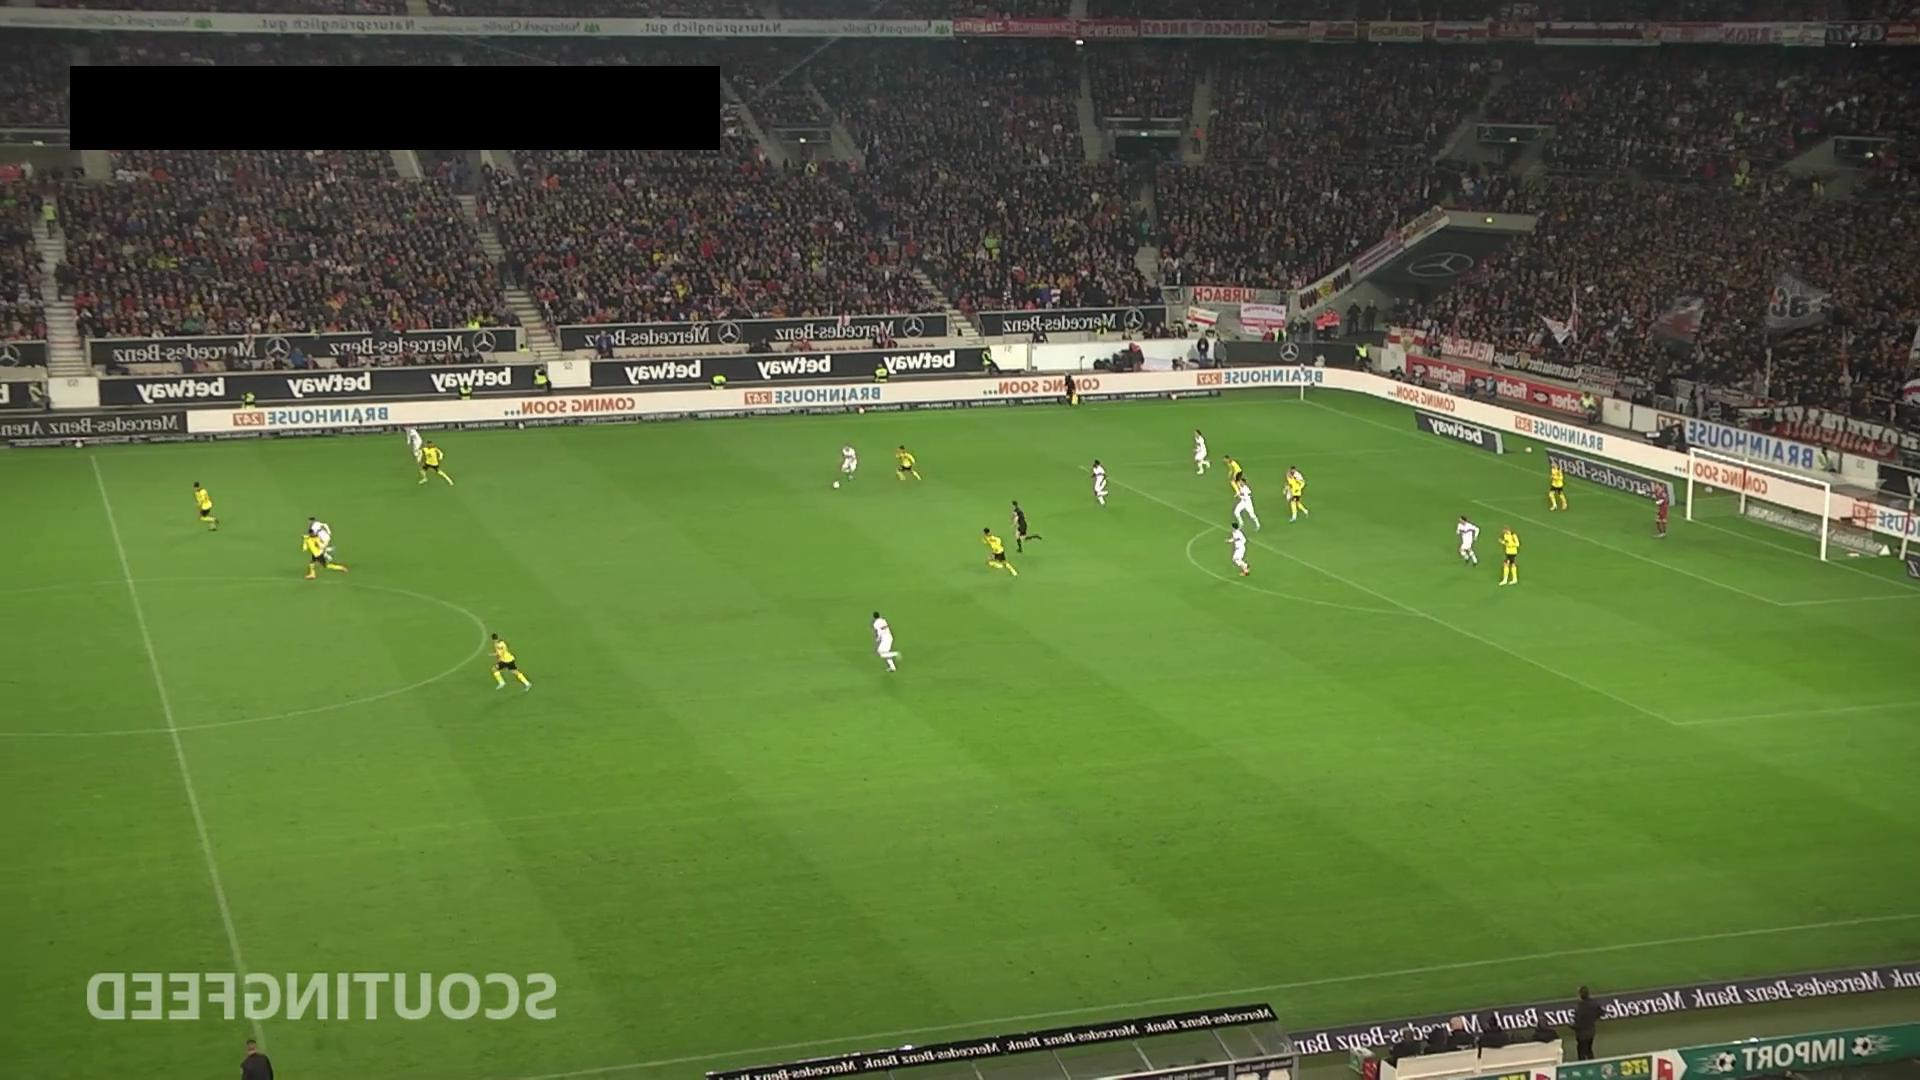ball: (831, 480, 841, 491)
goalkeeper: (1635, 479, 1671, 541)
player: (489, 632, 532, 692), (301, 529, 349, 580), (870, 610, 901, 672), (981, 526, 1019, 576), (305, 513, 338, 566), (1231, 475, 1262, 531), (419, 439, 454, 486), (1284, 465, 1310, 522), (1497, 525, 1521, 586), (192, 480, 219, 531), (1225, 521, 1250, 576), (405, 423, 426, 484), (1456, 515, 1480, 566), (1547, 461, 1568, 511), (894, 444, 922, 481), (1222, 452, 1244, 495), (1090, 459, 1108, 506), (1192, 428, 1210, 475), (839, 444, 858, 481)
referee: (1009, 500, 1045, 553), (1063, 372, 1081, 409)
